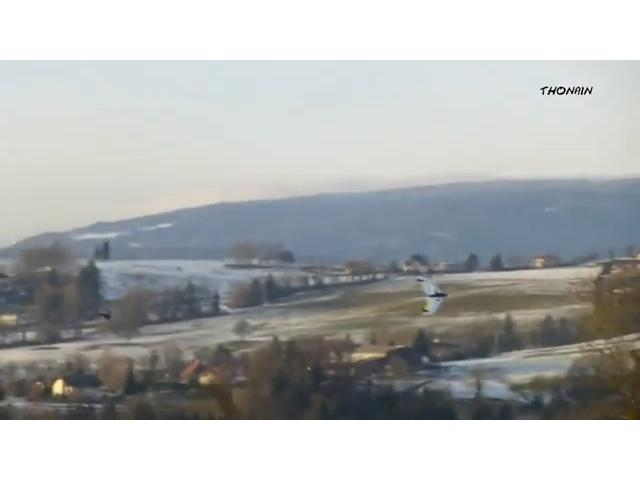Anti-Drone: (419, 278, 447, 314)
